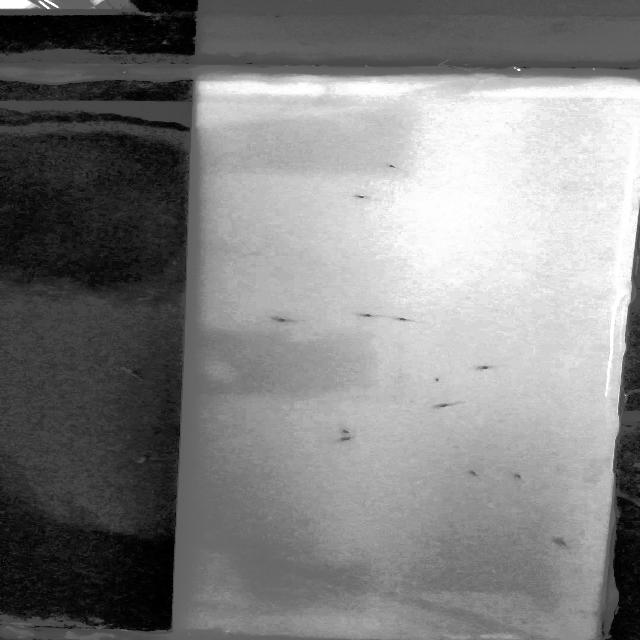shrimp: (470, 357, 510, 378), (346, 306, 392, 320), (395, 313, 439, 327), (256, 312, 298, 325), (349, 190, 376, 208), (366, 161, 408, 172), (467, 464, 492, 482), (423, 402, 472, 411), (331, 435, 362, 447), (508, 469, 534, 483), (549, 534, 570, 550), (332, 429, 354, 434)
